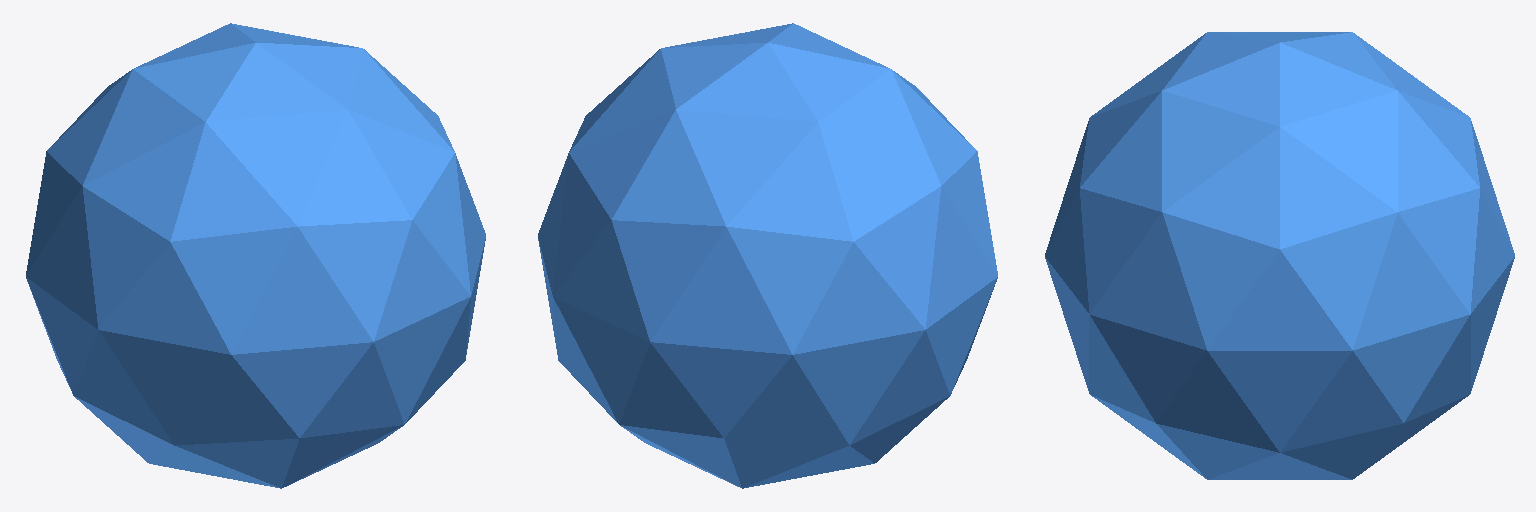
3 renders of one model, left to right at view 1: azimuth 30°, elevation 25°; view 2: azimuth 150°, elevation 25°; view 3: azimuth 270°, elevation 25°, orthographic.
Parts seen in each view (by area): view 1: ICO球; view 2: ICO球; view 3: ICO球.
Boxes of the visible parts, x1=… form: ICO球: x1=26, y1=23, x2=485, y2=488; ICO球: x1=538, y1=23, x2=997, y2=488; ICO球: x1=1045, y1=32, x2=1514, y2=479.
Bounding box in the file's own units: 7.52 × 7.91 × 7.91.
1 materials, 1 textured.